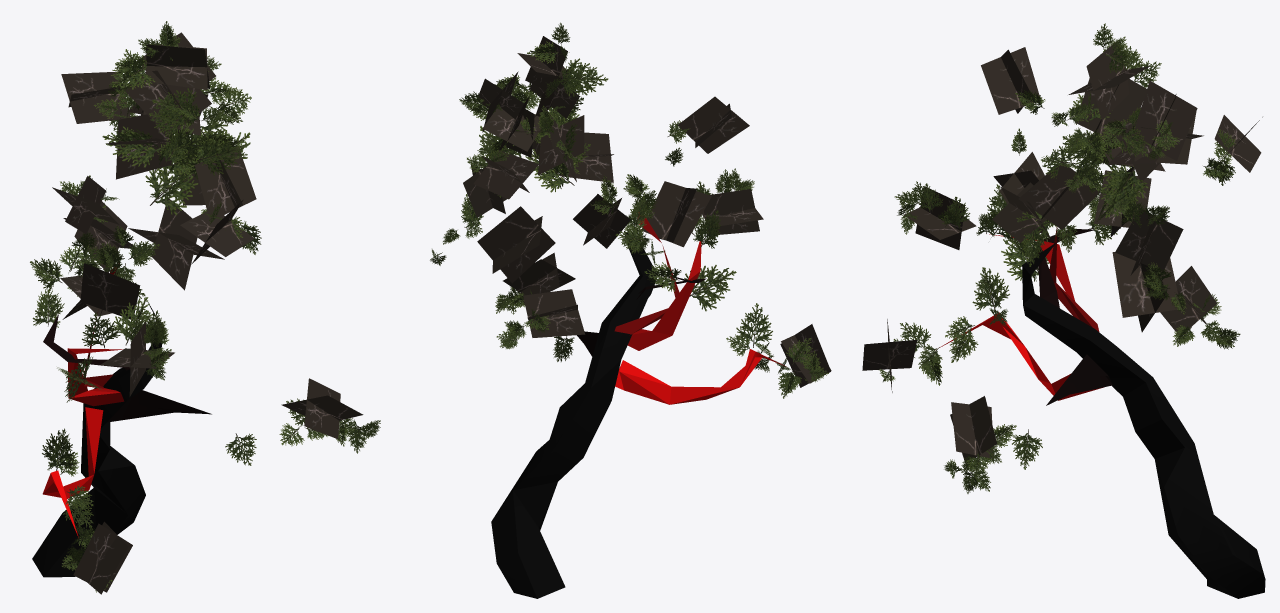
Rendered from cpine3 lod2.FBX.
3 views of the same model, side by side, from view 1: azimuth 30°, elevation 25°; view 2: azimuth 150°, elevation 25°; view 3: azimuth 270°, elevation 25° (orthographic). The views are drawn at different scales.
Visible parts, largest first — view 1: cpine3_LOD2; view 2: cpine3_LOD2; view 3: cpine3_LOD2.
Part boxes in pixels (left/top/right/bottom): cpine3_LOD2: left=30, top=21, right=380, bottom=594; cpine3_LOD2: left=430, top=22, right=831, bottom=598; cpine3_LOD2: left=862, top=23, right=1265, bottom=598.
Bounding box in the file's own units: 104681 × 164595 × 102720.
